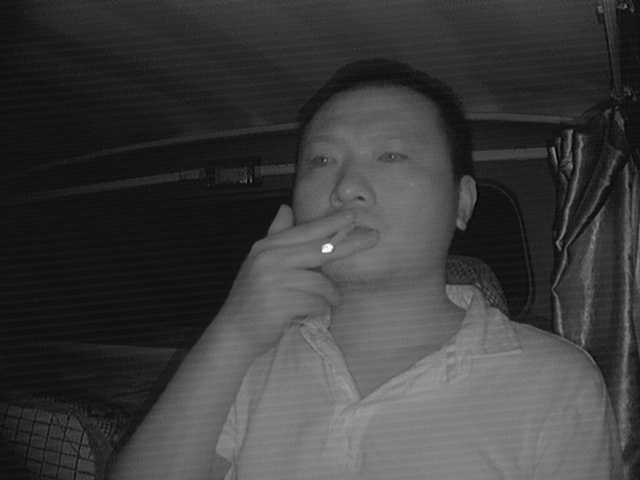hand: (240, 206, 374, 339)
